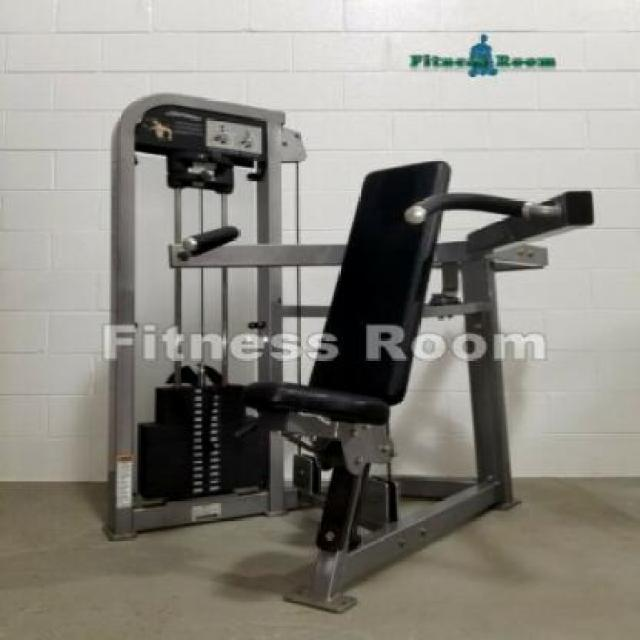shoulder press machine: (79, 81, 606, 624)
